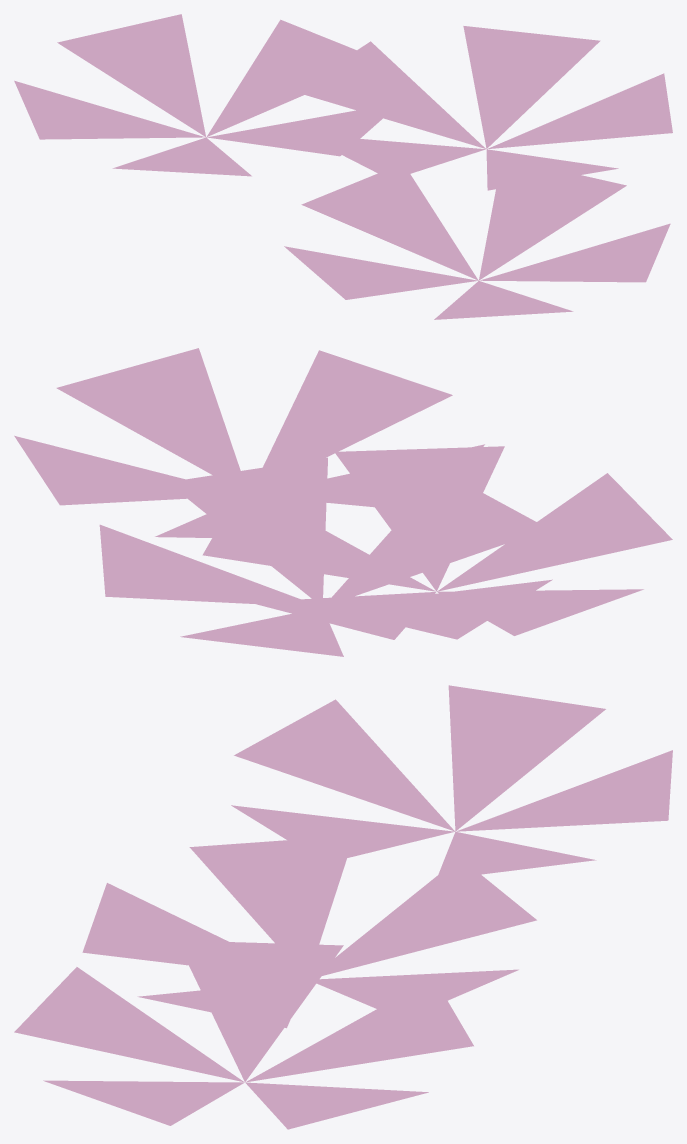
The picture shows the model from 3 angles, top to bottom: view 1: azimuth 30°, elevation 25°; view 2: azimuth 150°, elevation 25°; view 3: azimuth 270°, elevation 25°; orthographic projection. The views are drawn at different scales.
Visible parts, largest first — view 1: SC_PlateauFlowerPink; view 2: SC_PlateauFlowerPink; view 3: SC_PlateauFlowerPink.
Boxes of the visible parts, <box> form: SC_PlateauFlowerPink: <box>14,14,672,319</box>; SC_PlateauFlowerPink: <box>14,348,672,656</box>; SC_PlateauFlowerPink: <box>14,685,672,1129</box>.
Size of the model in its own units: 0.3167 by 0.0894 by 0.2754.
